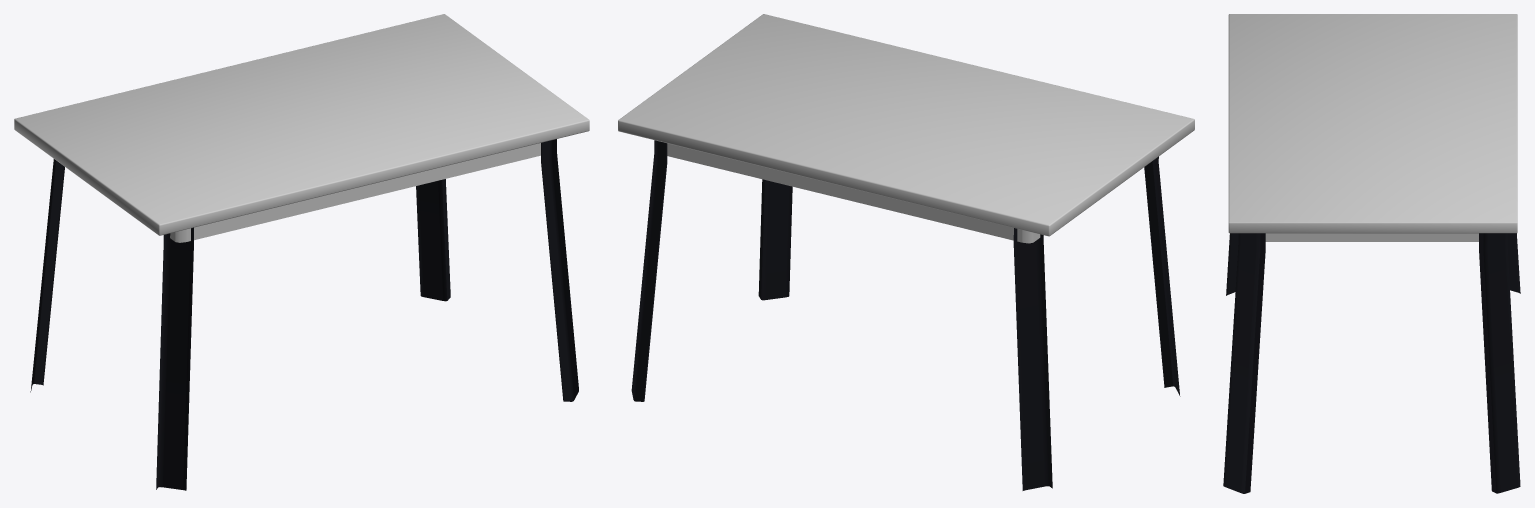
File: siyah.gltf
The picture shows the model from 3 angles, left to right: view 1: azimuth 30°, elevation 25°; view 2: azimuth 150°, elevation 25°; view 3: azimuth 270°, elevation 25°; orthographic projection.
Parts seen in each view (by area): view 1: Leg:3; view 2: Leg:3; view 3: Leg:3.
Part boxes in pixels (x1,y1,x2,y2): Leg:3: [14, 14, 589, 490]; Leg:3: [618, 14, 1194, 490]; Leg:3: [1223, 14, 1520, 493].
Size of the model in its own units: 3.09 by 1.89 by 1.86.
